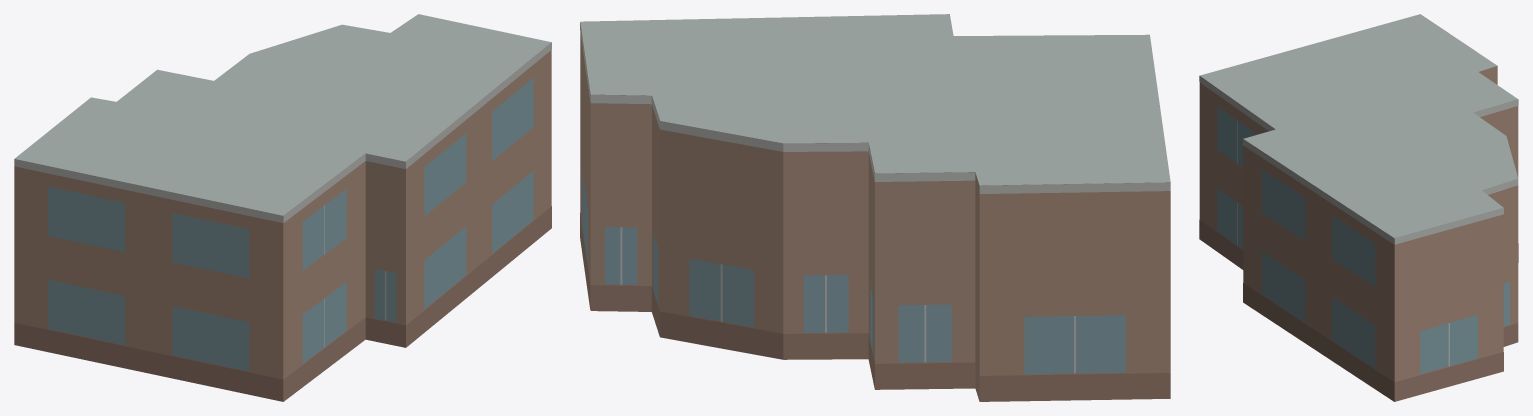
File: survey-upis-32609997.glb
3 renders of one model, left to right at view 1: azimuth 30°, elevation 25°; view 2: azimuth 150°, elevation 25°; view 3: azimuth 270°, elevation 25°, orthographic. The views are drawn at different scales.
Parts seen in each view (by area): view 1: survey-upis-32609997.tmp; view 2: survey-upis-32609997.tmp; view 3: survey-upis-32609997.tmp.
Boxes of the visible parts, x1,y1,x2,y2 form: survey-upis-32609997.tmp: (14,14,551,401); survey-upis-32609997.tmp: (580,14,1170,401); survey-upis-32609997.tmp: (1199,14,1518,401).
Bounding box in the file's own units: 17.94 × 6.1 × 10.78.
